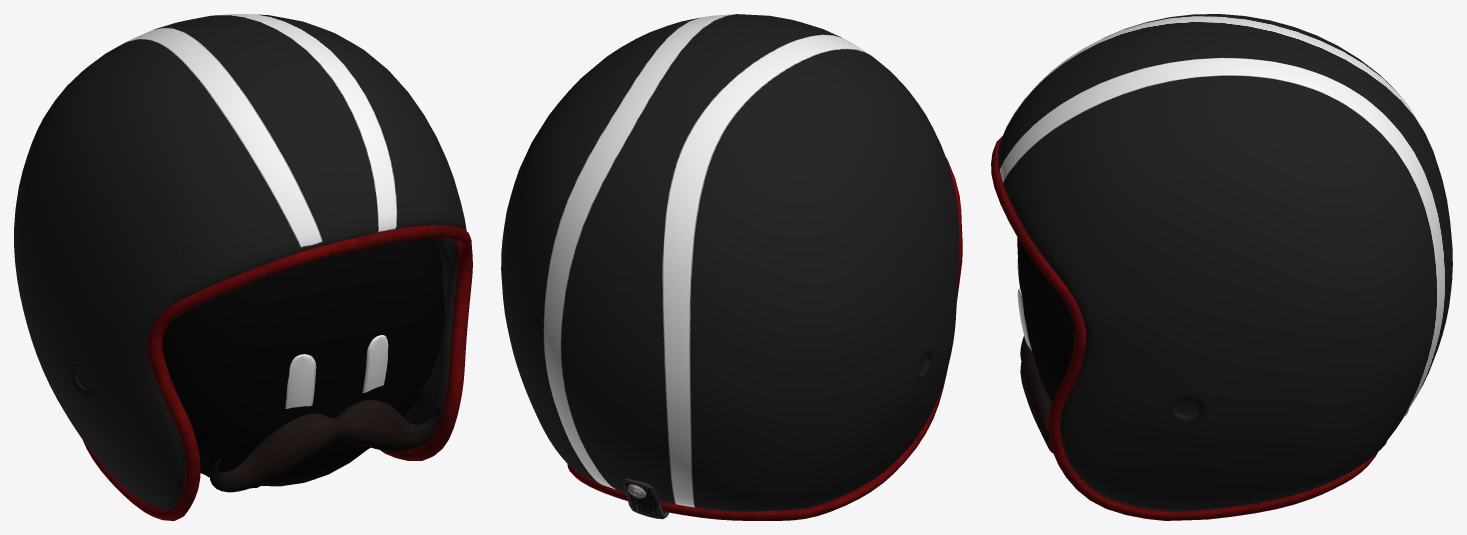
File: head.glb
3 renders of one model, left to right at view 1: azimuth 30°, elevation 25°; view 2: azimuth 150°, elevation 25°; view 3: azimuth 270°, elevation 25°, orthographic.
Parts seen in each view (by area): view 1: helmet, Boy, bigode, RightEye, LeftEye; view 2: helmet; view 3: helmet, Boy, bigode.
Boxes of the visible parts, <box> form: helmet: <box>14,14,472,520</box>; Boy: <box>162,238,444,488</box>; bigode: <box>209,400,441,492</box>; RightEye: <box>285,354,316,408</box>; LeftEye: <box>362,335,388,392</box>; helmet: <box>501,14,962,520</box>; helmet: <box>991,14,1452,520</box>; Boy: <box>1017,237,1074,401</box>; bigode: <box>1020,336,1052,452</box>.
Bounding box in the file's own units: 9.35 × 10.71 × 10.22.
3 materials, 2 textured.
